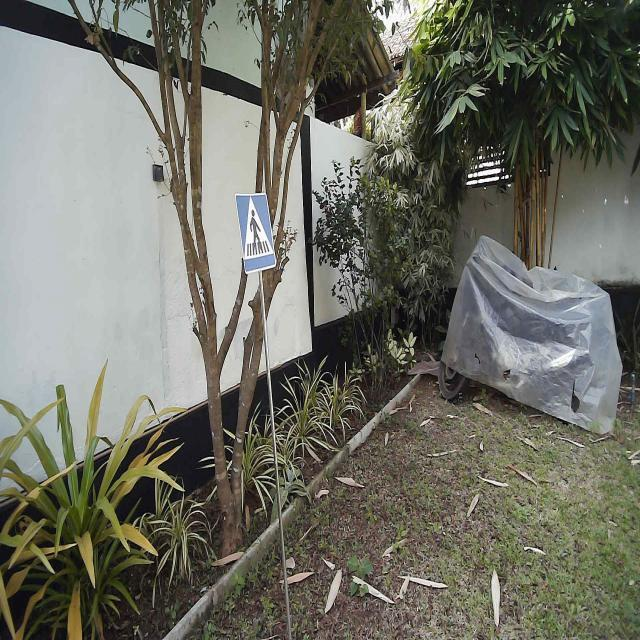crosswalk_sign: (234, 191, 278, 278)
